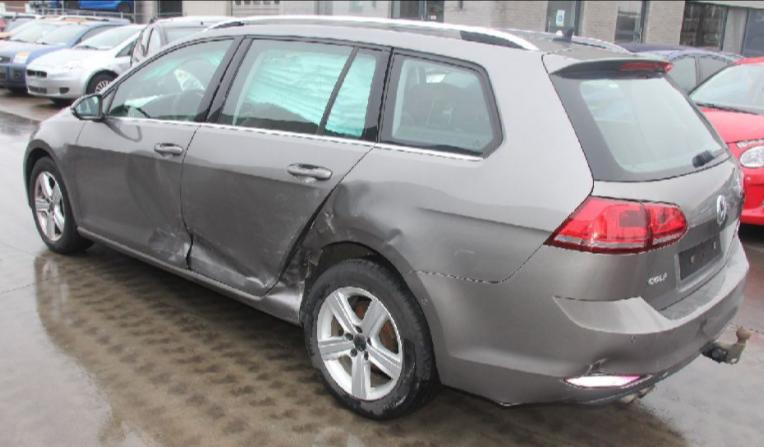Broken part: (177, 123, 376, 299), (261, 184, 399, 325)
Dent: (149, 225, 256, 288), (125, 152, 175, 225), (561, 352, 638, 378), (332, 183, 377, 218), (383, 229, 403, 263), (248, 263, 272, 286)
Paint chip: (322, 210, 336, 232), (496, 401, 521, 406), (422, 298, 427, 306)
Scratch: (276, 216, 306, 259), (454, 248, 475, 253), (261, 246, 269, 253)
